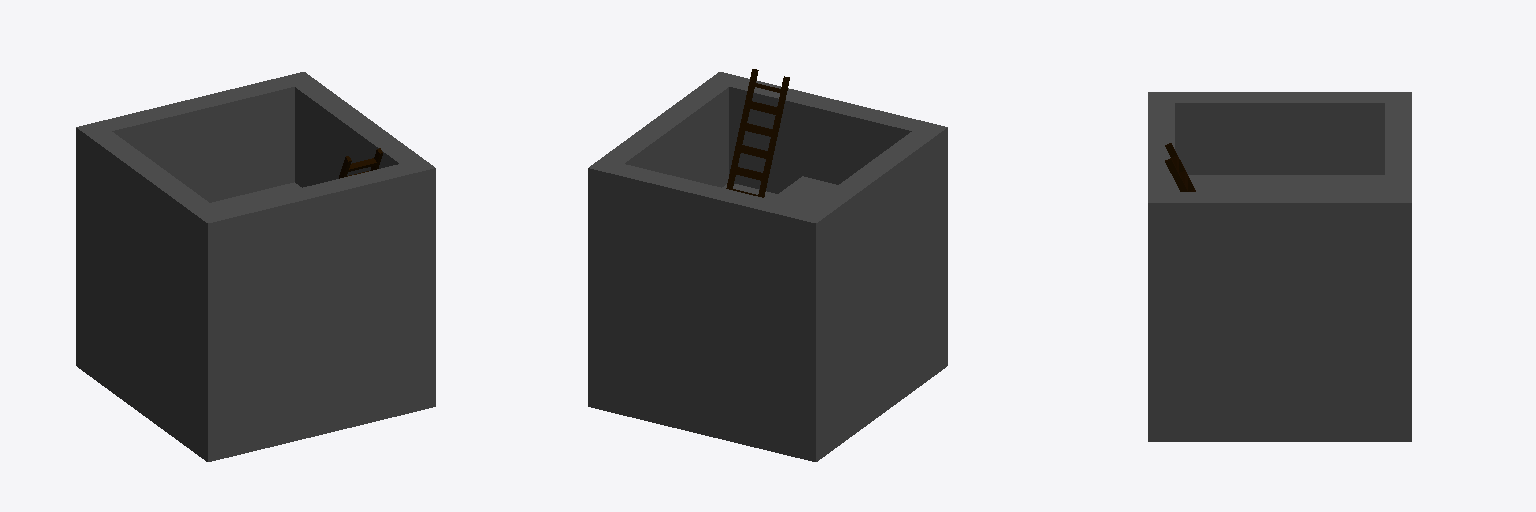
File: Quarry1.obj
The picture shows the model from 3 angles: view 1: azimuth 30°, elevation 25°; view 2: azimuth 150°, elevation 25°; view 3: azimuth 270°, elevation 25°; orthographic projection.
Visible parts, largest first — view 1: Tilebase122; view 2: Tilebase122, Ladder003; view 3: Tilebase122, Ladder003.
Boxes of the visible parts, <box> form: Tilebase122: <box>76,72,435,461</box>; Tilebase122: <box>588,72,947,461</box>; Ladder003: <box>726,69,789,197</box>; Tilebase122: <box>1148,92,1411,441</box>; Ladder003: <box>1165,143,1195,191</box>.
Size of the model in its own units: 10 by 10.92 by 10.